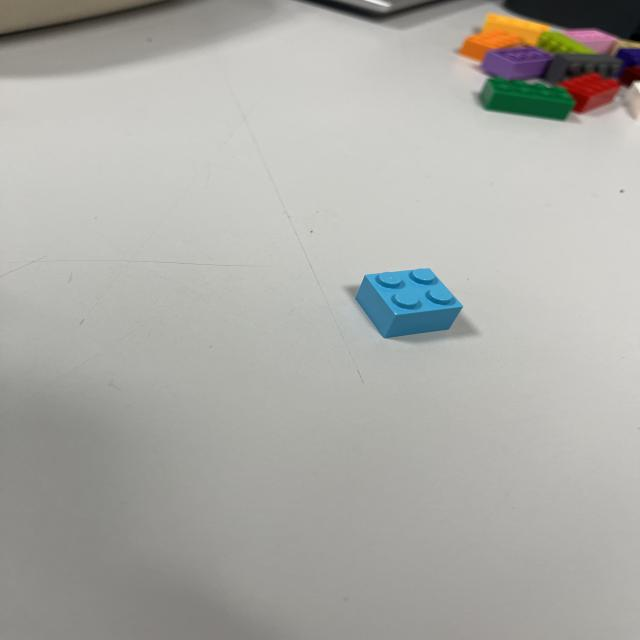C2x2x1: (354, 266, 464, 338)
